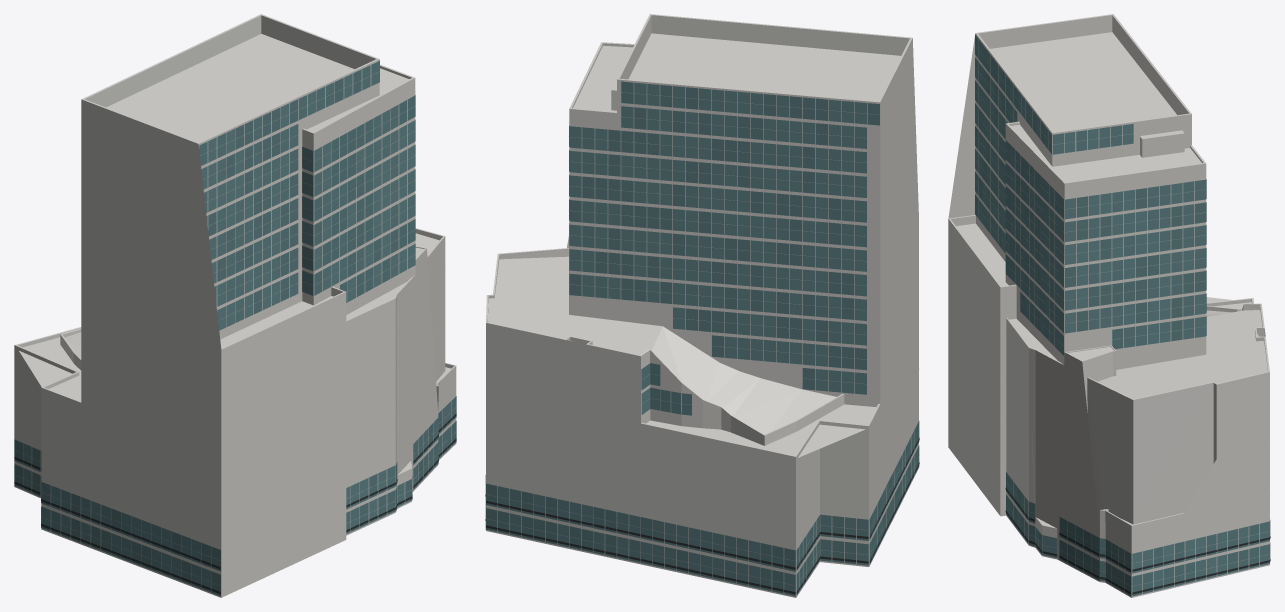
Rendered from parco.glb.
The picture shows the model from 3 angles, left to right: view 1: azimuth 30°, elevation 25°; view 2: azimuth 150°, elevation 25°; view 3: azimuth 270°, elevation 25°; orthographic projection. The views are drawn at different scales.
Parts seen in each view (by area): view 1: parco_wall, parco_roof, parco_glass0, parco_glass2, parco_glass1, parco_frame, parco_sign_housing; view 2: parco_wall, parco_roof, parco_glass0, parco_glass1, parco_glass2, parco_frame, parco_sign_housing, parco_spandrel; view 3: parco_wall, parco_roof, parco_glass2, parco_glass1, parco_glass0, parco_frame, parco_sign_housing, parco_spandrel.
Boxes of the visible parts, left/top/right/bottom form: parco_wall: left=14, top=15, right=456, bottom=597; parco_roof: left=15, top=14, right=455, bottom=475; parco_glass0: left=14, top=69, right=456, bottom=595; parco_glass2: left=23, top=73, right=451, bottom=592; parco_glass1: left=14, top=61, right=456, bottom=588; parco_frame: left=15, top=60, right=456, bottom=592; parco_sign_housing: left=14, top=413, right=456, bottom=593; parco_wall: left=486, top=15, right=918, bottom=597; parco_roof: left=486, top=14, right=912, bottom=457; parco_glass0: left=485, top=81, right=919, bottom=593; parco_glass1: left=510, top=82, right=913, bottom=595; parco_glass2: left=498, top=90, right=916, bottom=596; parco_frame: left=485, top=82, right=914, bottom=593; parco_sign_housing: left=485, top=438, right=919, bottom=594; parco_spandrel: left=487, top=123, right=918, bottom=596; parco_wall: left=948, top=15, right=1269, bottom=597; parco_roof: left=949, top=14, right=1269, bottom=528; parco_glass2: left=975, top=40, right=1216, bottom=578; parco_glass1: left=975, top=35, right=1269, bottom=592; parco_glass0: left=975, top=55, right=1270, bottom=596; parco_frame: left=975, top=40, right=1269, bottom=596; parco_sign_housing: left=1005, top=488, right=1270, bottom=594; parco_spandrel: left=1005, top=136, right=1269, bottom=596.
Bounding box in the file's own units: 95.32 × 101 × 72.07.
